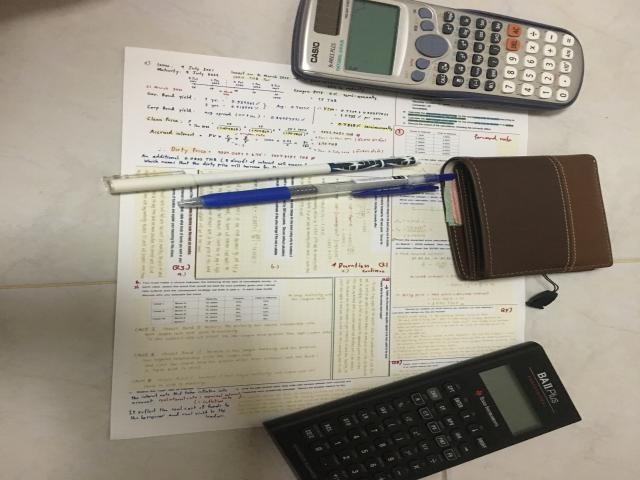Pen: (102, 156, 420, 193), (178, 173, 455, 207)
Wallet: (442, 155, 612, 280)
paper: (112, 48, 531, 439)
